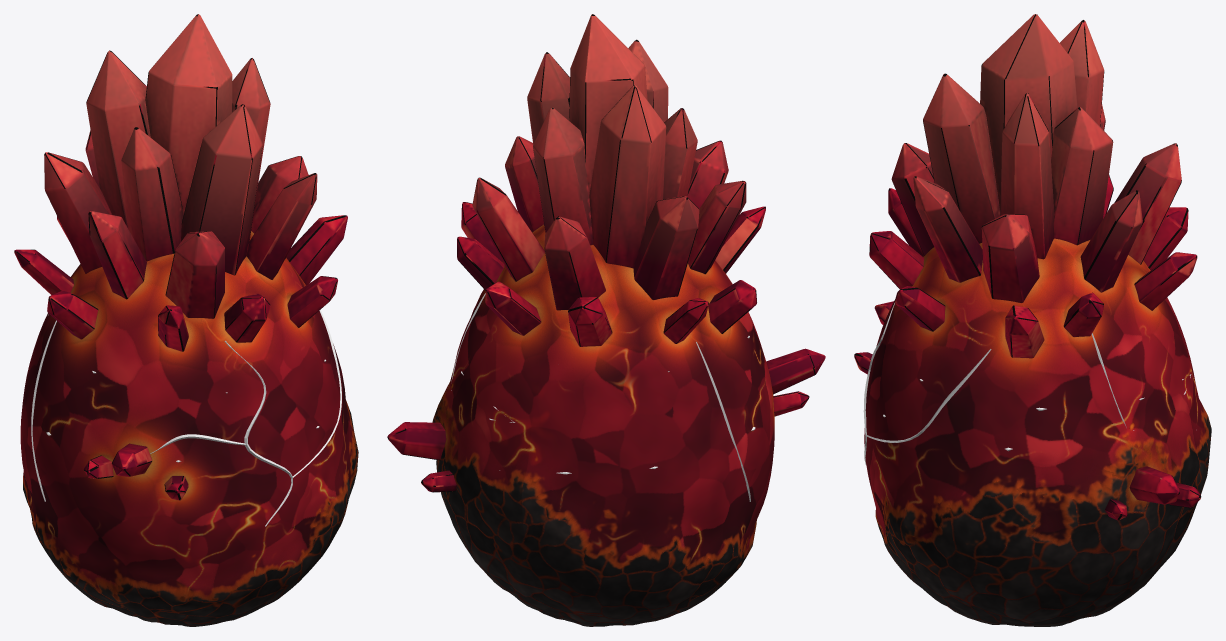
The model's file is MagmaHeartEgg.fbx.
The picture shows the model from 3 angles, left to right: view 1: azimuth 30°, elevation 25°; view 2: azimuth 150°, elevation 25°; view 3: azimuth 270°, elevation 25°; orthographic projection. The views are drawn at different scales.
Visible parts, largest first — view 1: MagmaHeartEgg_Body, MagmaHeartEgg_Glow_ff3214; view 2: MagmaHeartEgg_Body, MagmaHeartEgg_Glow_ff3214; view 3: MagmaHeartEgg_Body, MagmaHeartEgg_Glow_ff3214.
Boxes of the visible parts, x1,y1,x2,y2 form: MagmaHeartEgg_Body: (14,14,358,626); MagmaHeartEgg_Glow_ff3214: (31,310,341,526); MagmaHeartEgg_Body: (387,14,825,626); MagmaHeartEgg_Glow_ff3214: (451,293,755,501); MagmaHeartEgg_Body: (854,14,1211,626); MagmaHeartEgg_Glow_ff3214: (863,303,1191,464).
Size of the model in its own units: 2.19 by 4.11 by 2.19.
Materials: 2 (1 with a texture image).
